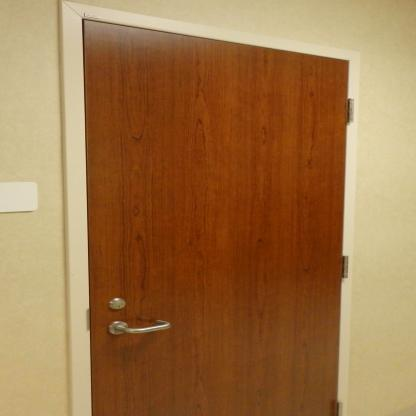door: (88, 19, 356, 415)
hinged: (340, 254, 352, 281), (346, 98, 356, 127), (334, 399, 347, 415)
lever: (108, 319, 176, 339)
